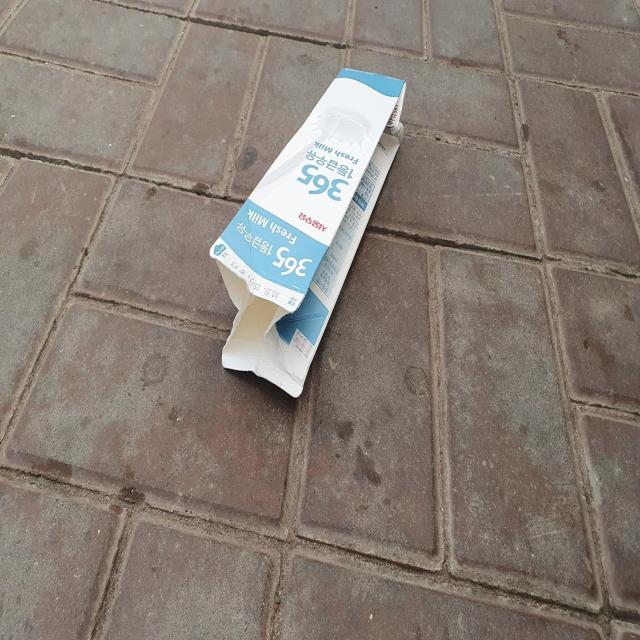paperpack: (210, 67, 406, 397)
